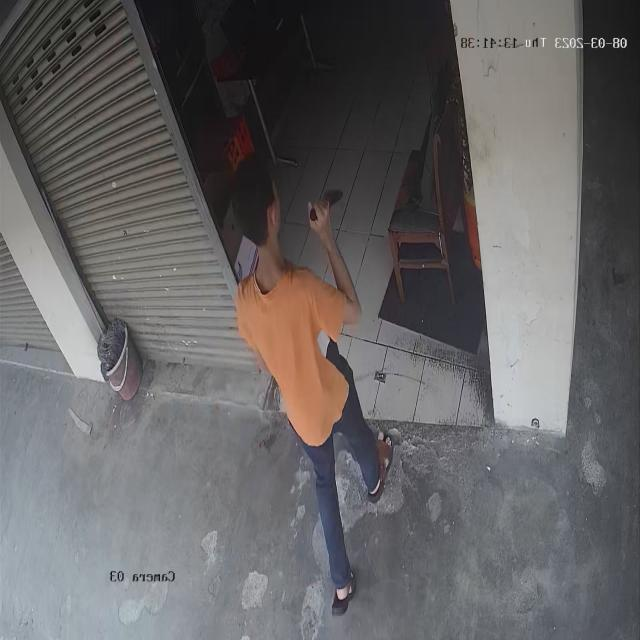Knife: (302, 180, 350, 221)
